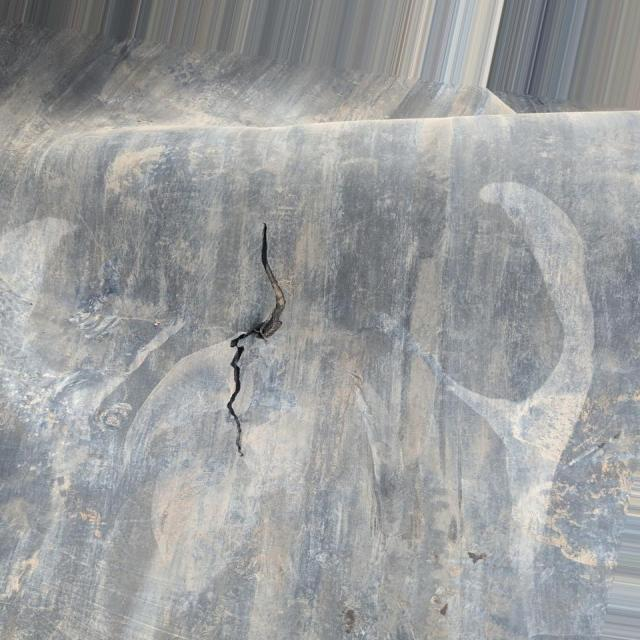Tear: (209, 218, 298, 468)
